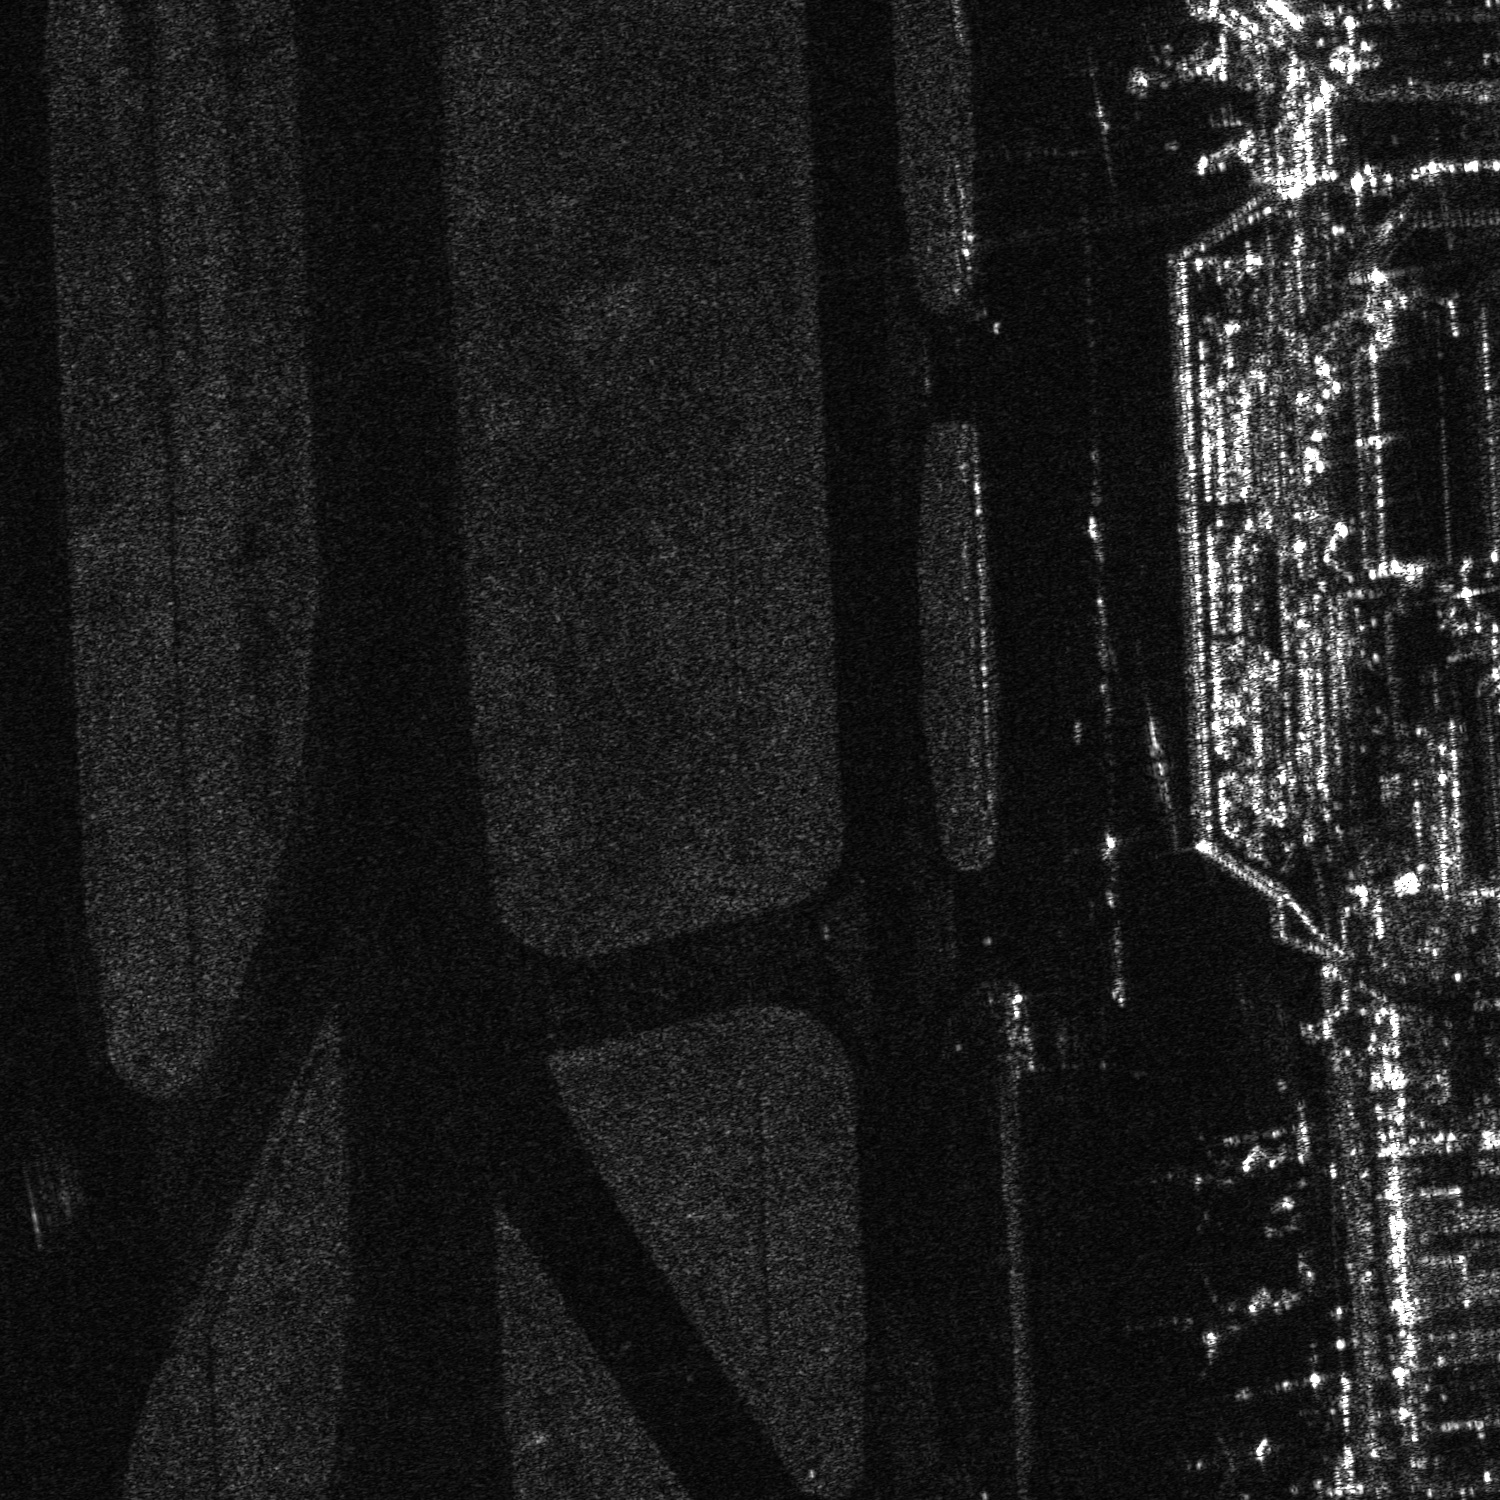ARJ21: (1162, 1261, 1323, 1370)
other: (1194, 1091, 1326, 1216), (1184, 1431, 1271, 1499)
